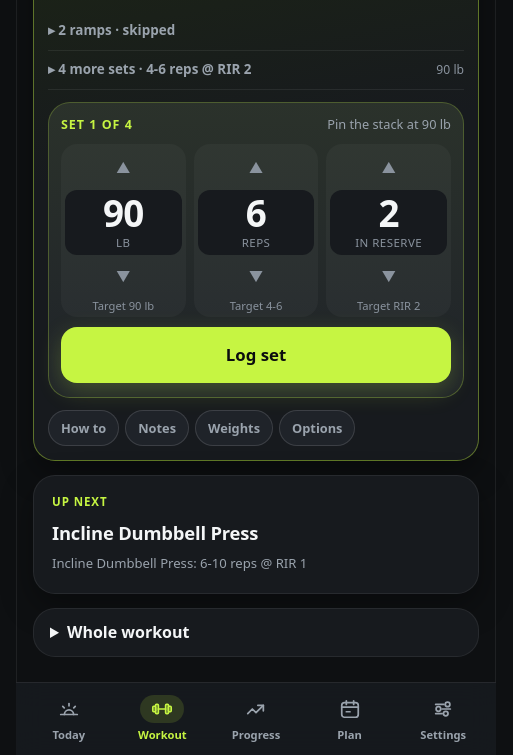
it: a machine switched to plates during a workout › starts from the gym’s rack, names the tab Plates, and lands every target on its plates
(page scrolled)
Step 1. Click the tab with test id "plates-tab" → click(234, 428), box x1=195 y1=410 x2=273 y2=446
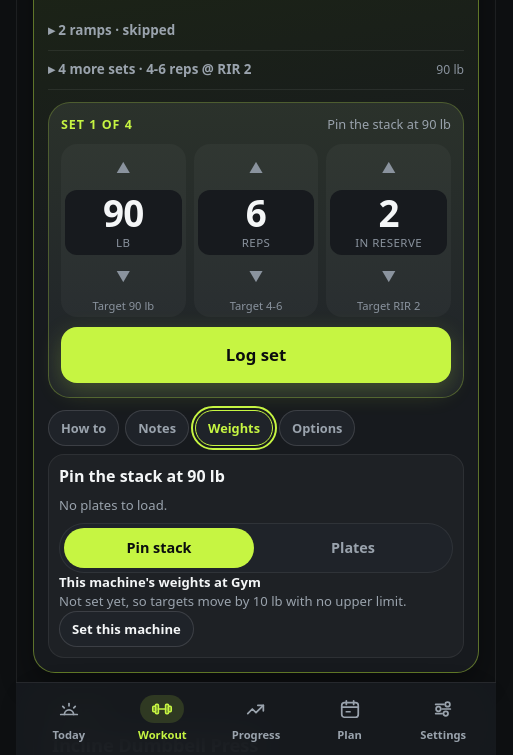
Step 2. Click the button with test id "machine-load-plates" → click(353, 548), box x1=258 y1=528 x2=448 y2=568
(page scrolled)
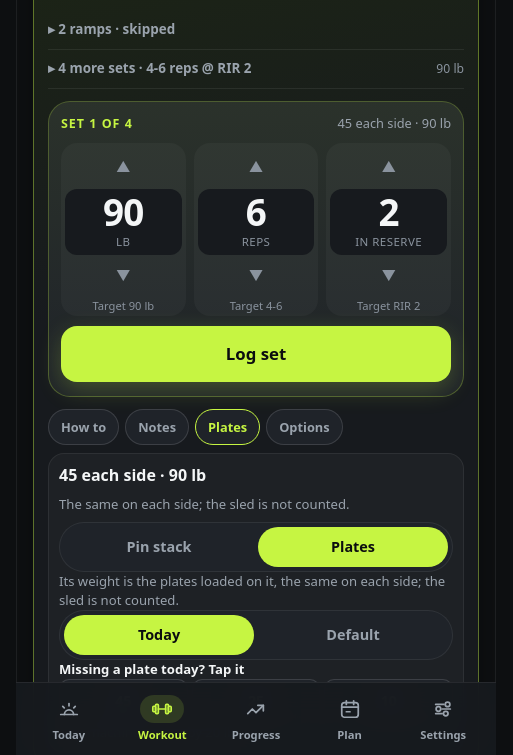
expect the tab with test id "plates-tab" reads "Plates": met, box x1=195 y1=409 x2=260 y2=445
expect the element with test id "logger-helper" reads "45 each side · 90 lb": met, box x1=338 y1=114 x2=451 y2=132
expect the panel with test id "plate-math" shows "The same on each side; the sled is not counted.": met, box x1=59 y1=495 x2=350 y2=513
